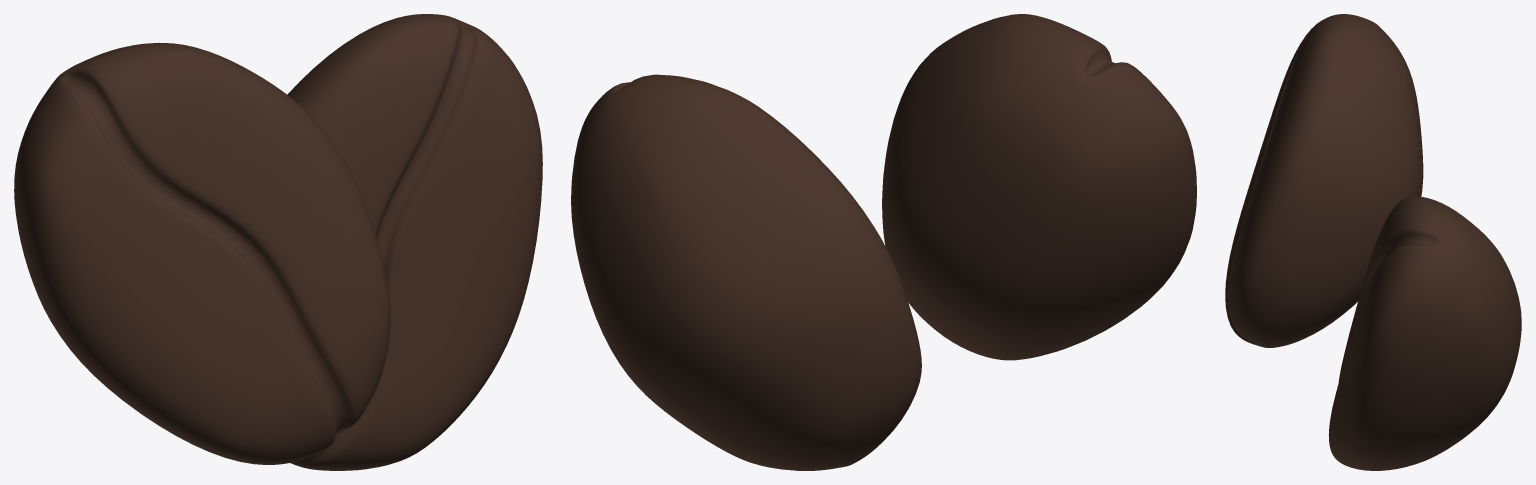
File: two-coffee-beans.glb
The picture shows the model from 3 angles, left to right: view 1: azimuth 30°, elevation 25°; view 2: azimuth 150°, elevation 25°; view 3: azimuth 270°, elevation 25°; orthographic projection. The views are drawn at different scales.
Visible parts, largest first — view 1: Cube.003, Cube.004; view 2: Cube.004, Cube.003; view 3: Cube.003, Cube.004.
Part boxes in pixels (x1=…): Cube.003: x1=14, y1=42, x2=390, y2=464; Cube.004: x1=287, y1=14, x2=542, y2=470; Cube.004: x1=571, y1=74, x2=921, y2=470; Cube.003: x1=882, y1=14, x2=1196, y2=360; Cube.003: x1=1225, y1=14, x2=1423, y2=347; Cube.004: x1=1328, y1=196, x2=1521, y2=470.
Bounding box in the file's own units: 6.77 × 5.61 × 4.25.
